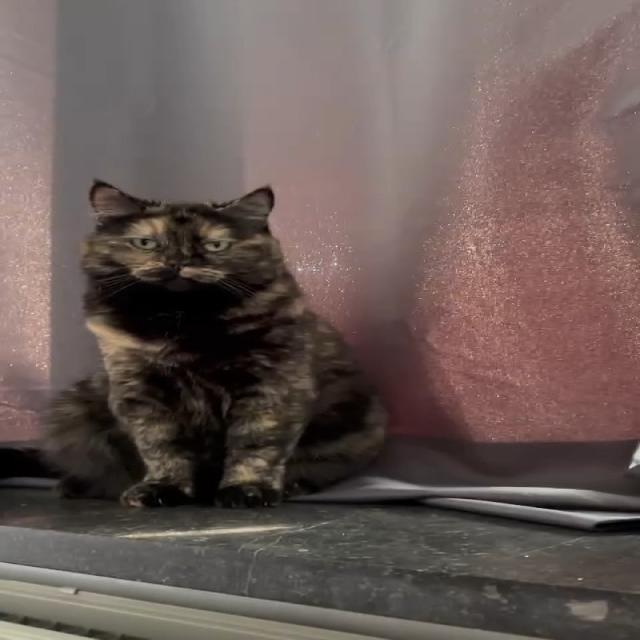authorized: (36, 178, 391, 509)
